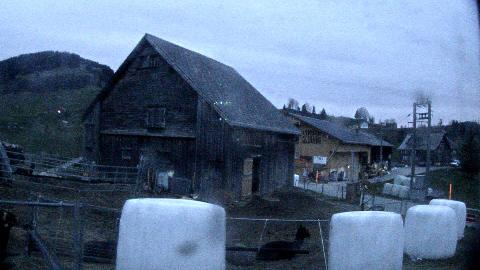car: (450, 160, 460, 166), (418, 161, 426, 167)
sheep: (256, 225, 314, 263), (82, 240, 118, 264), (0, 210, 17, 258), (226, 242, 254, 266), (15, 162, 36, 175), (39, 172, 57, 178)
